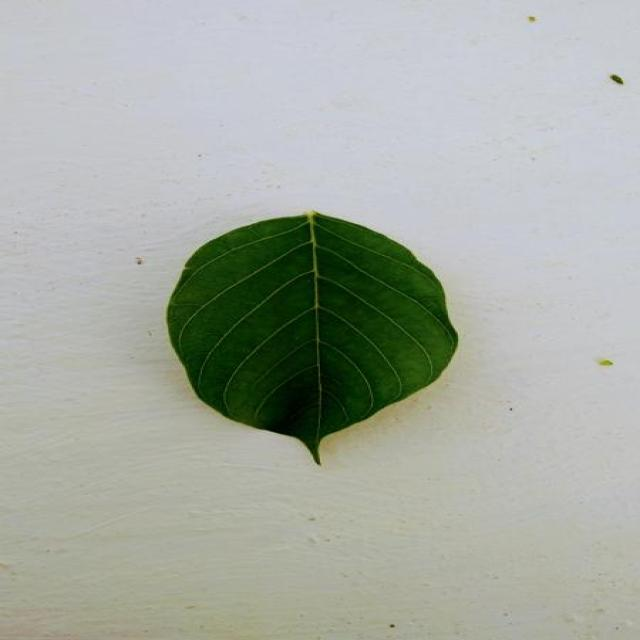honge: (167, 212, 458, 463)
